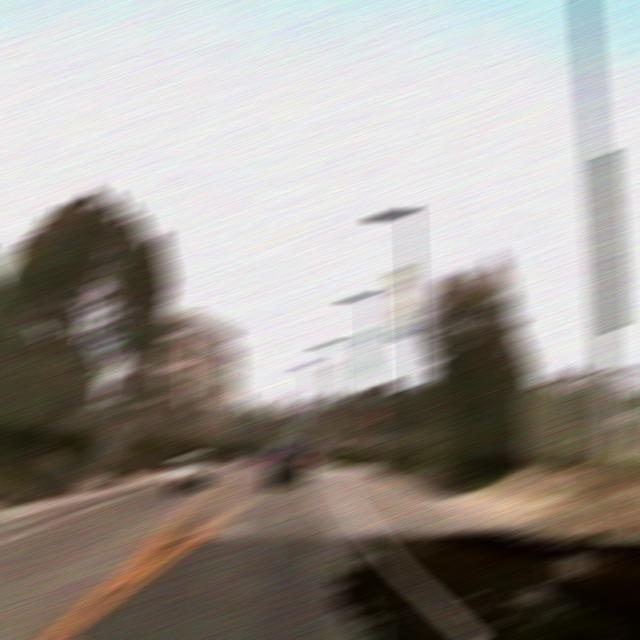stop: (362, 411, 384, 428)
